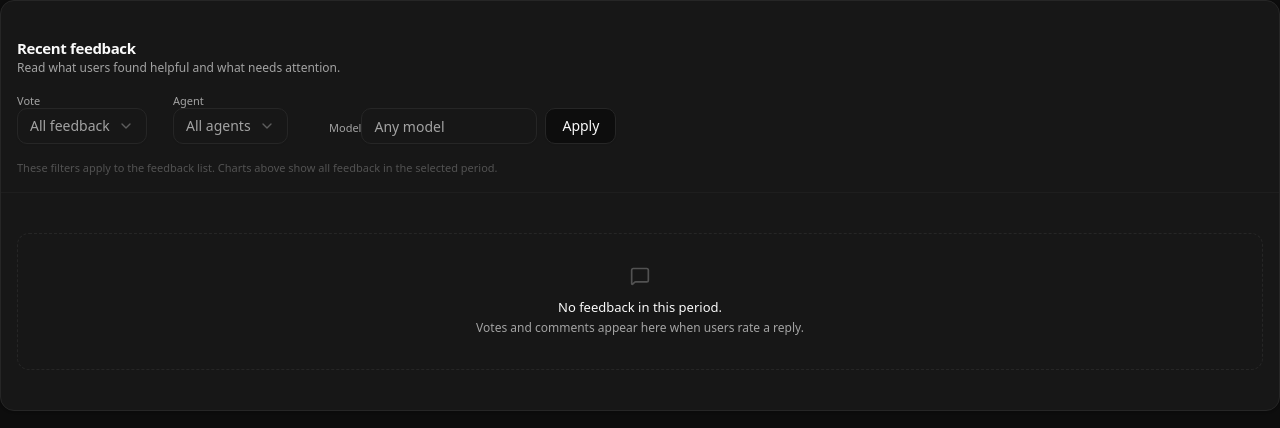
AssistantFeedbackPanel › shows a useful filtered empty state
Expected: the text "No feedback in this period." is shown, [558, 298, 722, 316]
Click the dropdown labelled "agent". click: x=230, y=126
box: [173, 108, 288, 144]
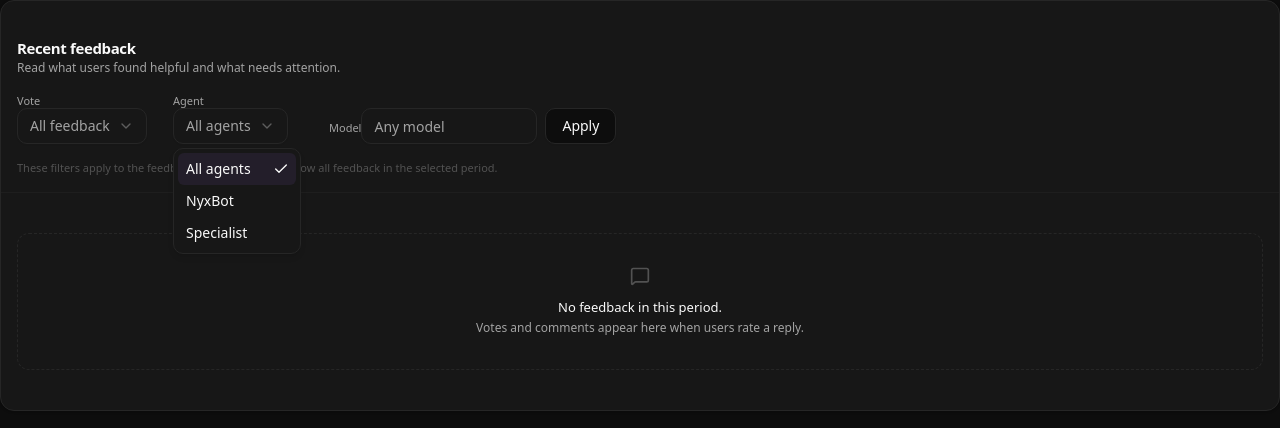
Click the option "NyxBot". click: x=210, y=200
box: [186, 191, 234, 210]
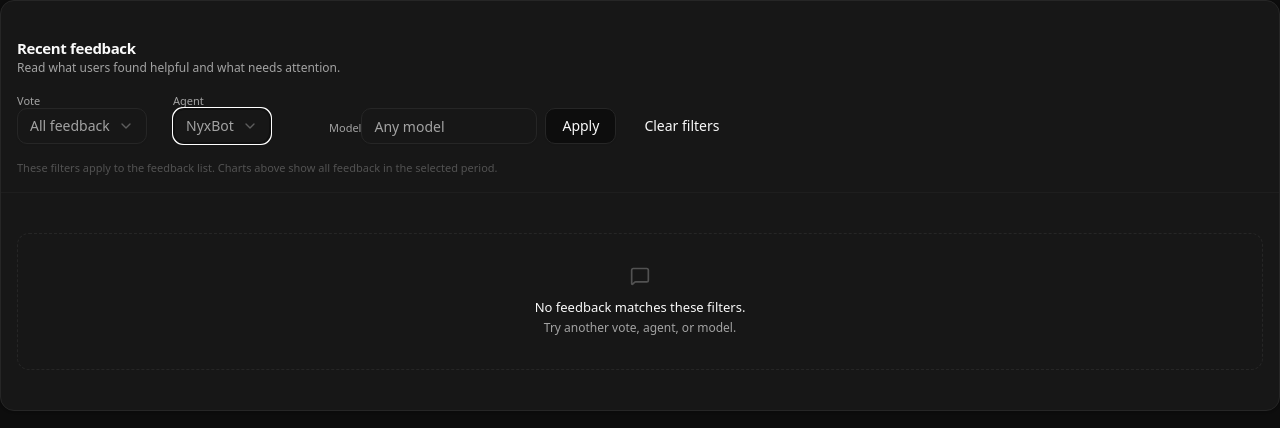
Expected: the text "No feedback matches these filters." is shown, [535, 298, 745, 316]
